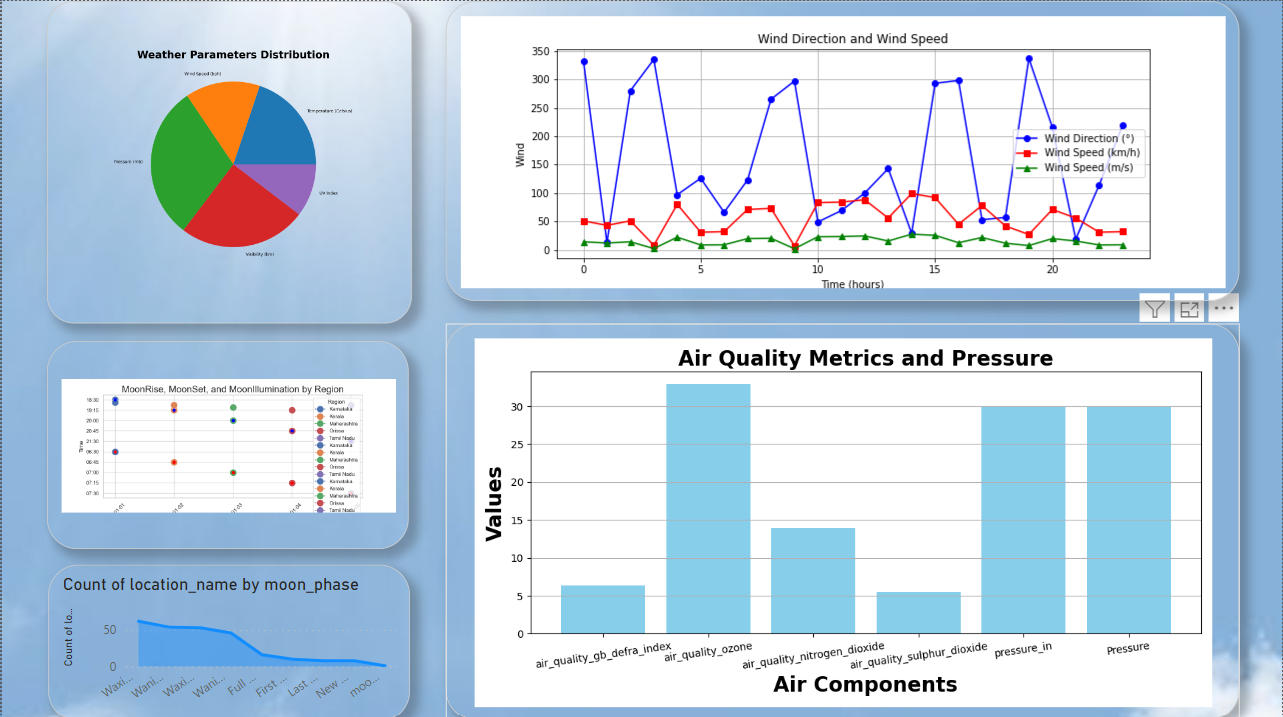

What the dashboard file says about the page in this screenshot:
{"tool":"powerbi","page":{"name":"Page 2","canvas":[1280,720],"ordinal":1},"visuals":[{"type":"pythonVisual","fields":{"Values":["FinalWeatherData.air_quality_gb_defra_index","FinalWeatherData.air_quality_ozone","FinalWeatherData.air_quality_nitrogen_dioxide","FinalWeatherData.air_quality_sulphur_dioxide","FinalWeatherData.pressure_in"]},"box":[443.8,323.9,793.4,396.7],"z":0},{"type":"pythonVisual","fields":{"Values":["Sum(weatherdata.temperature_celsius)","Sum(weatherdata.wind_kph)","weatherdata.pressure_mb","weatherdata.visibility_km"]},"box":[44.6,0,364.5,322.3],"z":1000},{"type":"areaChart","title":"MoonPhases over location ","fields":{"Category":["weatherdata.moon_phase"],"Y":["CountNonNull(weatherdata.location_name)"]},"box":[44,562.5,362,156.5],"z":2000},{"type":"pythonVisual","fields":{"Values":["weatherdata.moonrise","weatherdata.moonset","weatherdata.moon_illumination"]},"box":[44.2,339.6,362.5,196.9],"z":3000},{"type":"pythonVisual","fields":{"Values":["Sum(weatherdata.wind_kph)","weatherdata.wind_mph","weatherdata.wind_direction"]},"box":[443.8,0,793.4,300],"z":5000}]}

Visuals, with their boxes in screenshot pixels (x1, y1, x2, y2), scaled from the page's 1280x720 canvas onto the 1283x717 screenshot:
pythonVisual - FinalWeatherData.air_quality_gb_defra_index x FinalWeatherData.air_quality_ozone: <bbox>445, 323, 1240, 716</bbox>
pythonVisual - Sum(weatherdata.temperature_celsius) x Sum(weatherdata.wind_kph): <bbox>45, 0, 410, 321</bbox>
"MoonPhases over location " areaChart: <bbox>44, 560, 407, 716</bbox>
pythonVisual - weatherdata.moonrise x weatherdata.moonset: <bbox>44, 338, 408, 534</bbox>
pythonVisual - Sum(weatherdata.wind_kph) x weatherdata.wind_mph: <bbox>445, 0, 1240, 299</bbox>
